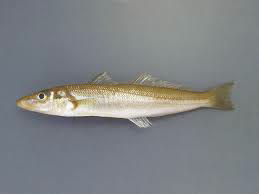kisu: (14, 19, 242, 133)
